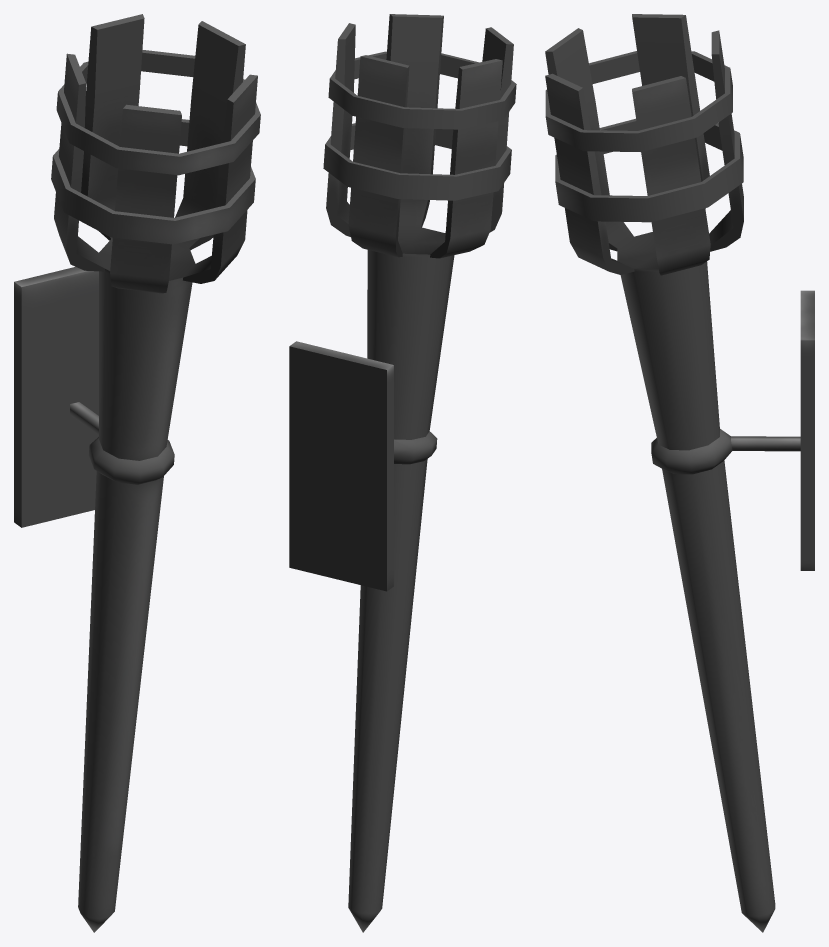
Rendered from Wall_Hanging_Torch.fbx.
3 renders of one model, left to right at view 1: azimuth 30°, elevation 25°; view 2: azimuth 150°, elevation 25°; view 3: azimuth 270°, elevation 25°, orthographic. The views are drawn at different scales.
Visible parts, largest first — view 1: pCylinder2; view 2: pCylinder2; view 3: pCylinder2.
Part boxes in pixels (x1,y1,x2,y2): pCylinder2: (14, 14, 260, 932); pCylinder2: (289, 14, 516, 932); pCylinder2: (545, 14, 814, 932).
Size of the model in its own units: 6 by 30.09 by 8.26.
